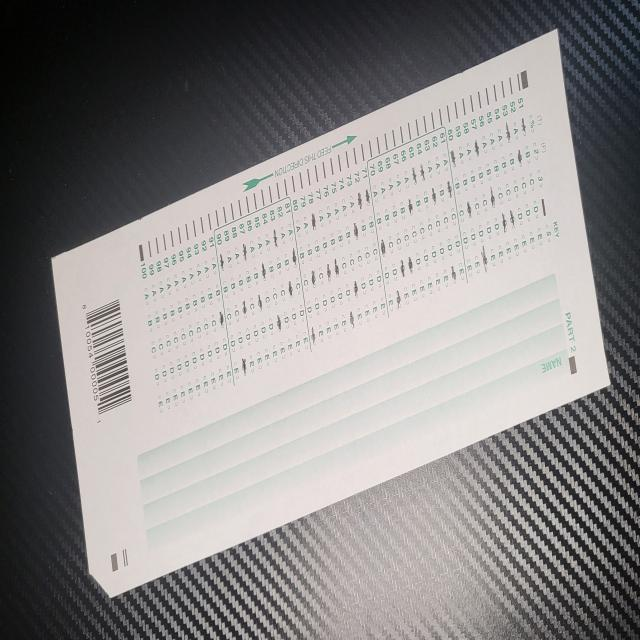scantron_back: (52, 28, 610, 600)
